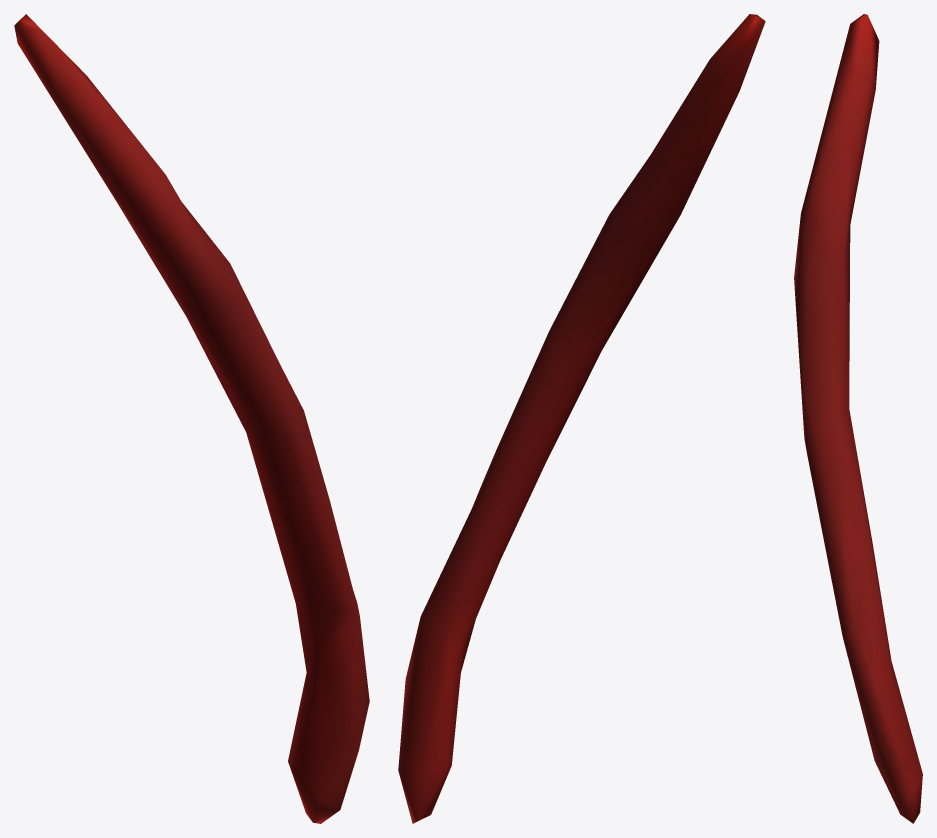
The model's file is Face_Mucle_15.glb.
The picture shows the model from 3 angles, left to right: view 1: azimuth 30°, elevation 25°; view 2: azimuth 150°, elevation 25°; view 3: azimuth 270°, elevation 25°; orthographic projection. The views are drawn at different scales.
Visible parts, largest first — view 1: Face_Mucle_15; view 2: Face_Mucle_15; view 3: Face_Mucle_15.
Boxes of the visible parts, box(x1,y1,x2,y2) form: Face_Mucle_15: box(14, 14, 369, 823); Face_Mucle_15: box(398, 14, 765, 823); Face_Mucle_15: box(794, 14, 922, 823).
Size of the model in its own units: 0.0938 by 0.2222 by 0.0377.
Materials: 1 (1 with a texture image).
